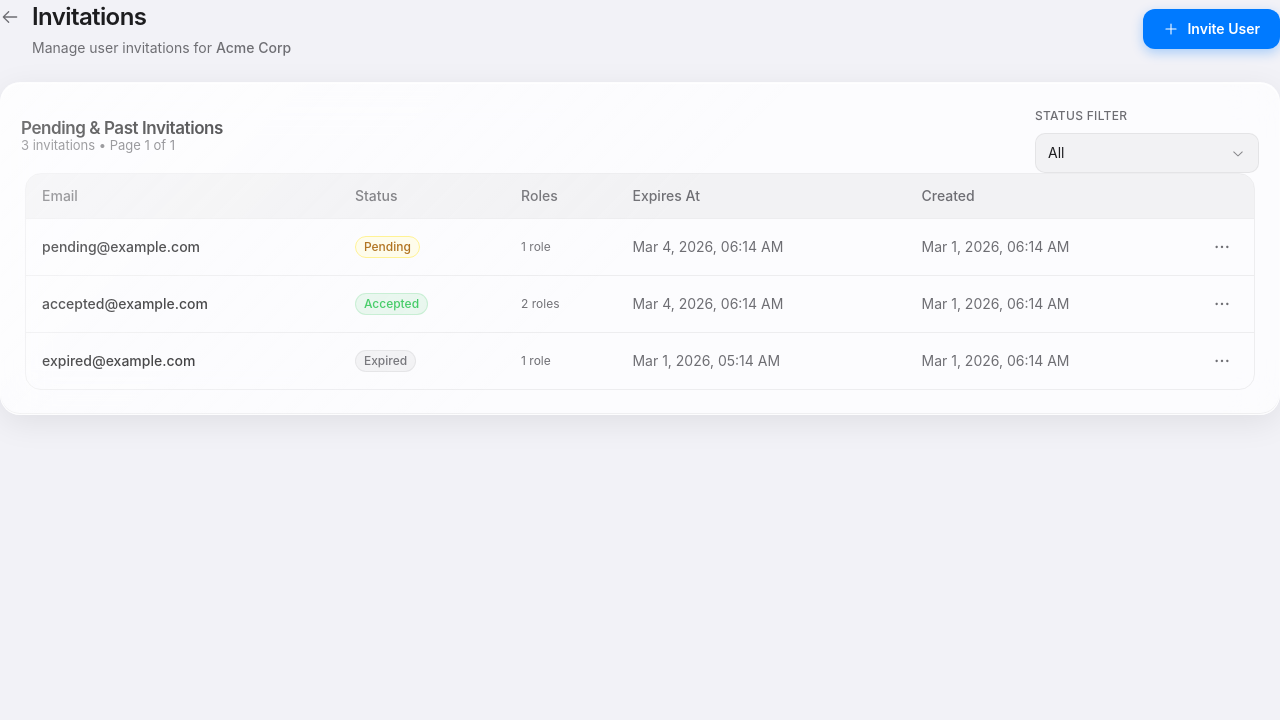
Test: Invitations Page › component interactions › closes the invite dialog when Cancel button is clicked
Click the button "Invite User" at (1212, 29), box [1144,9,1279,49]
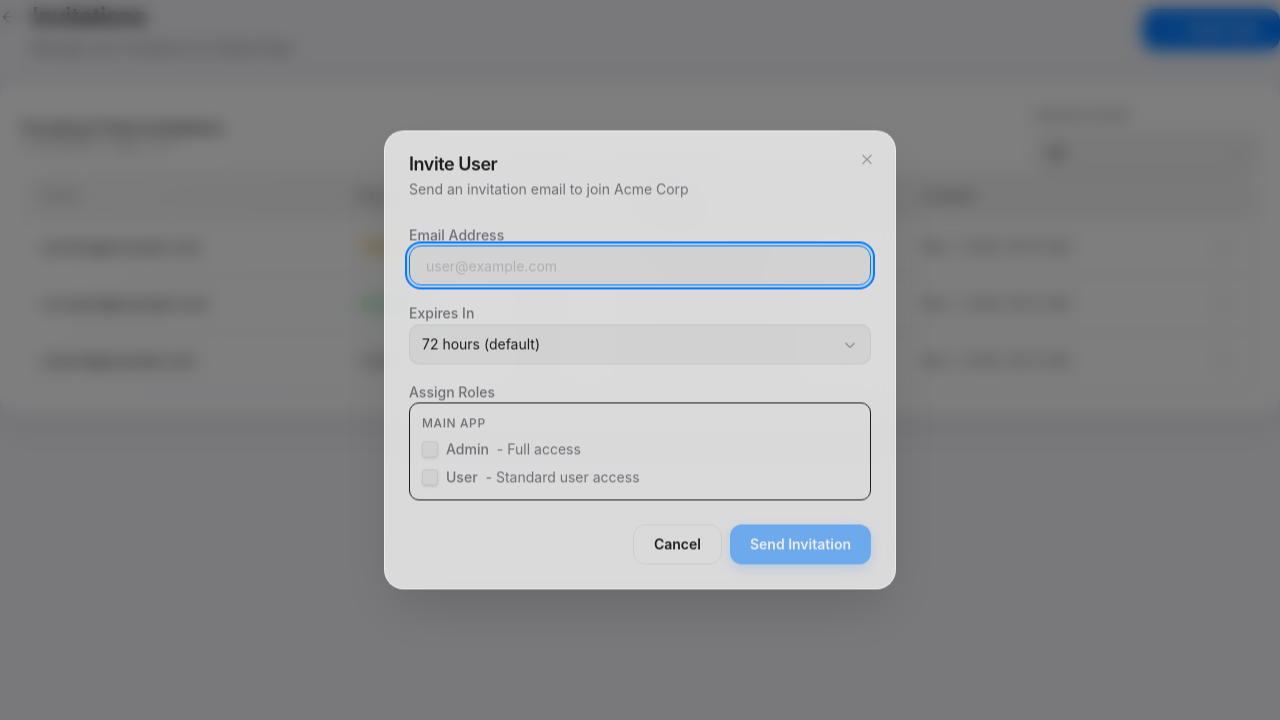
Expected: the dialog is shown, [384,130,896,590]
// Click Cancel
Click the button "Cancel" at (677, 545), box [633,525,722,565]
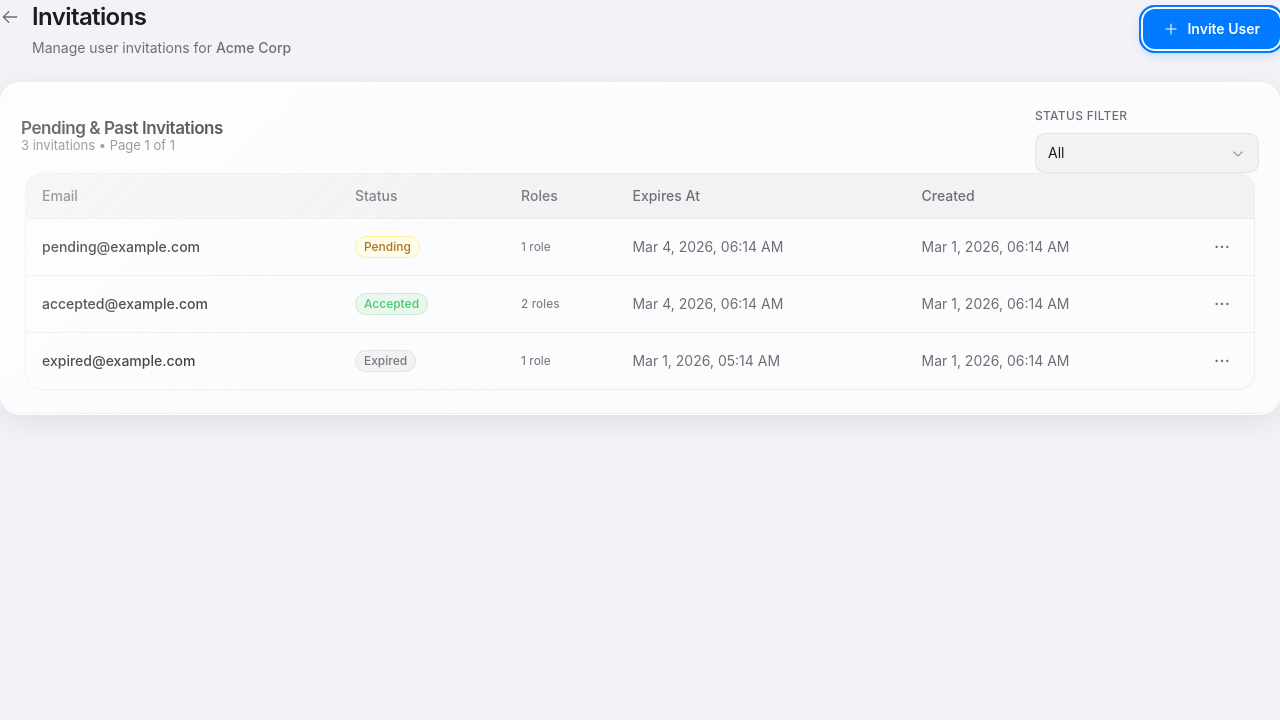
Expected: the dialog is gone
